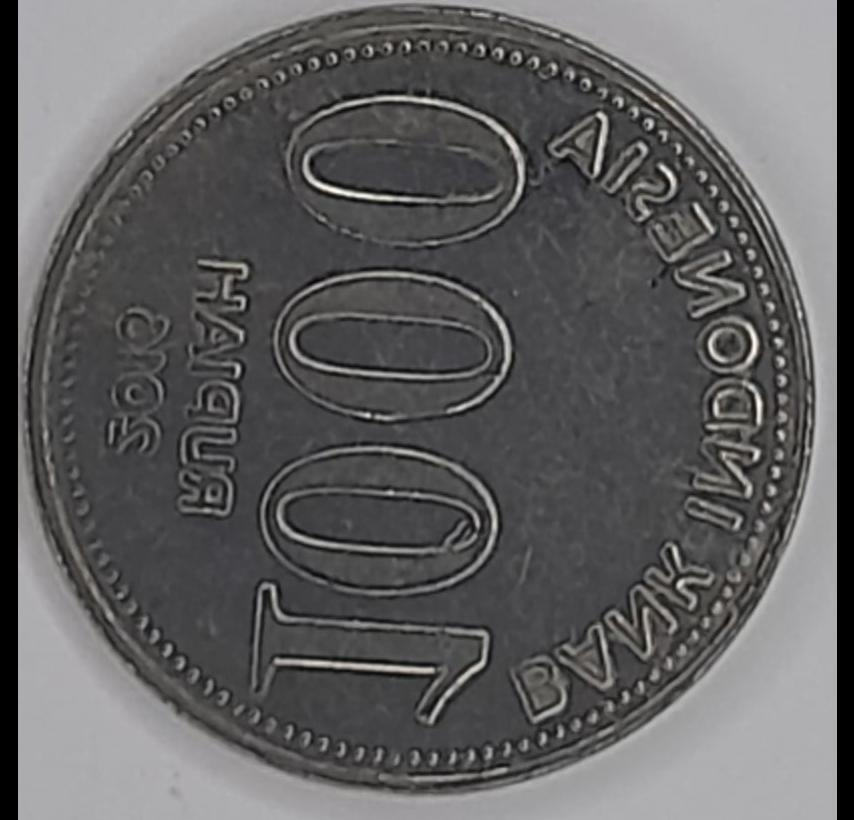coin_1000_e2016: (15, 16, 843, 820)
